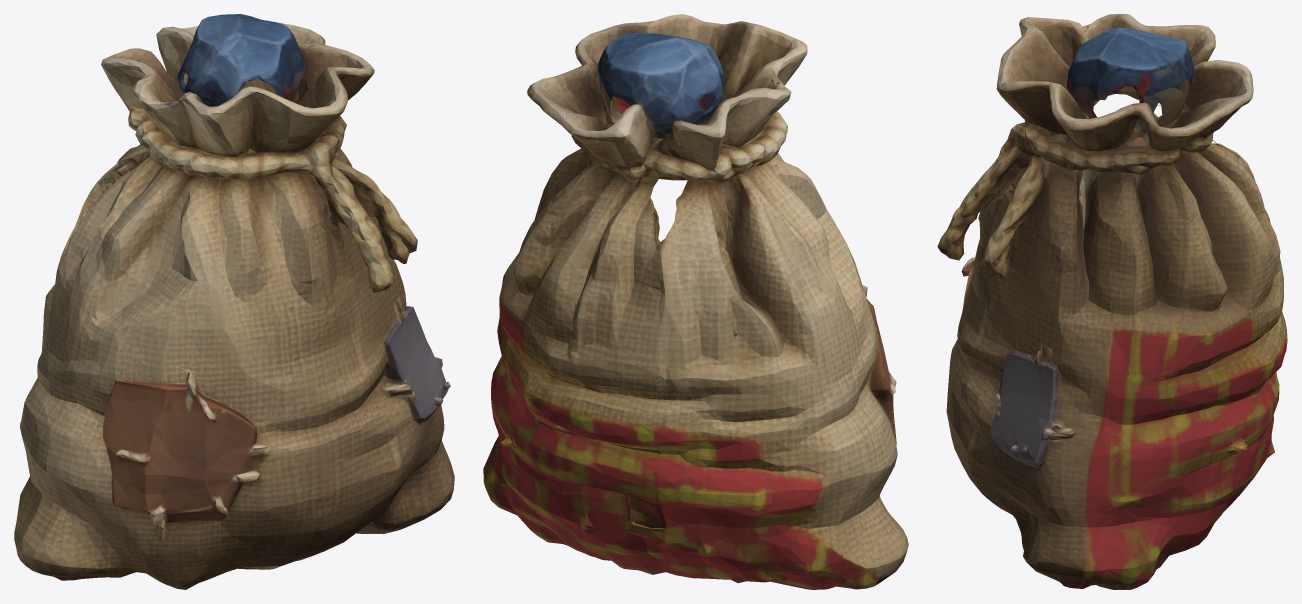
The model's file is mochila_0.glb.
3 renders of one model, left to right at view 1: azimuth 30°, elevation 25°; view 2: azimuth 150°, elevation 25°; view 3: azimuth 270°, elevation 25°, orthographic. The views are drawn at different scales.
Parts seen in each view (by area): view 1: geometry_0; view 2: geometry_0; view 3: geometry_0.
Part boxes in pixels (left/top/right/bottom): geometry_0: left=14, top=14, right=454, bottom=589; geometry_0: left=483, top=14, right=908, bottom=589; geometry_0: left=937, top=14, right=1287, bottom=589.
Bounding box in the file's own units: 0.5982 × 0.7055 × 0.458.
1 material, 1 textured.
